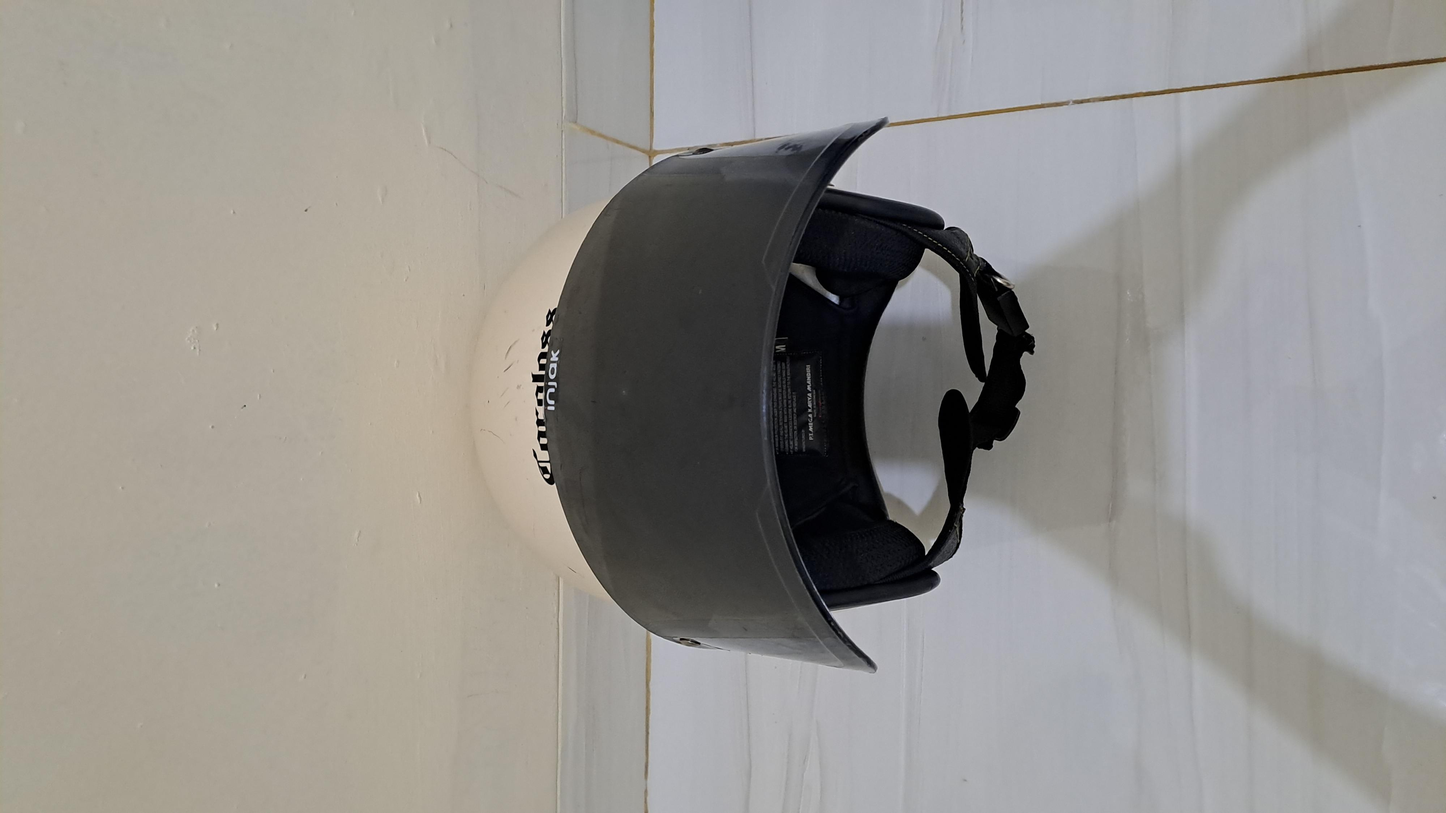helmet: (189, 254, 1253, 584)
